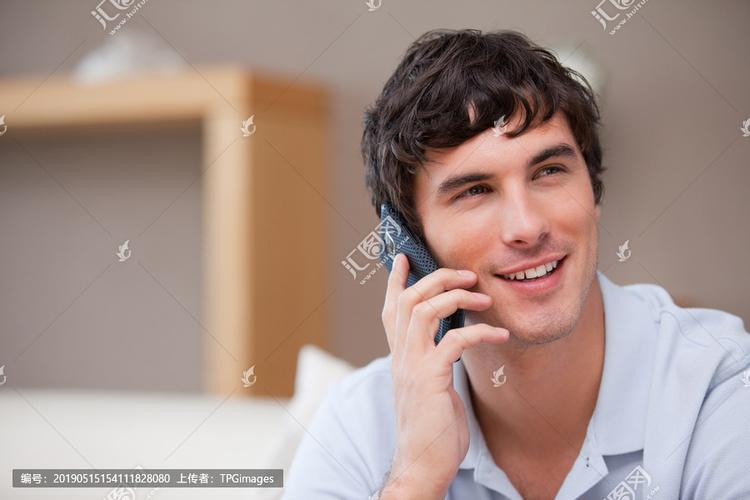calling: (376, 198, 513, 478)
